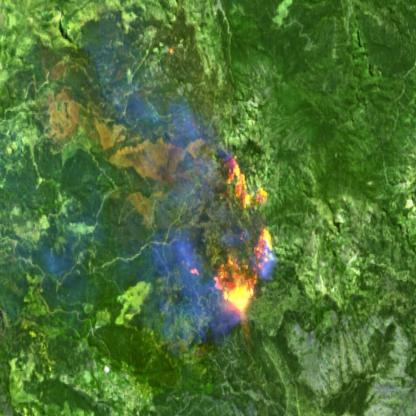fire: (206, 143, 277, 333)
